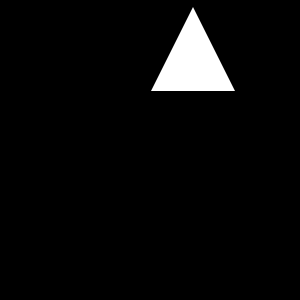triangle: (151, 7, 235, 91)
